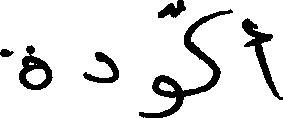X: (153, 0, 182, 117), (185, 2, 219, 101), (0, 40, 52, 94), (255, 19, 282, 104), (84, 47, 117, 87)
